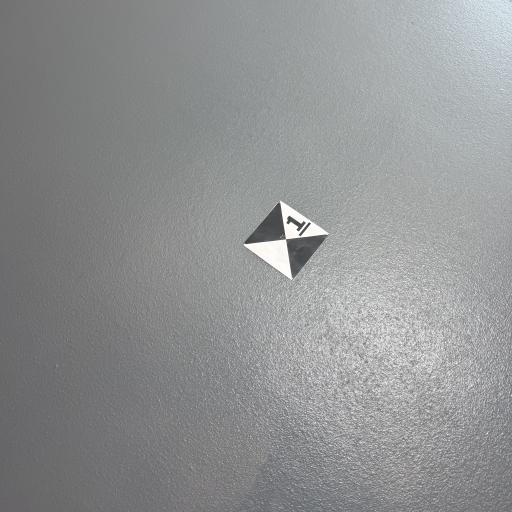target1: (233, 198, 333, 285)
